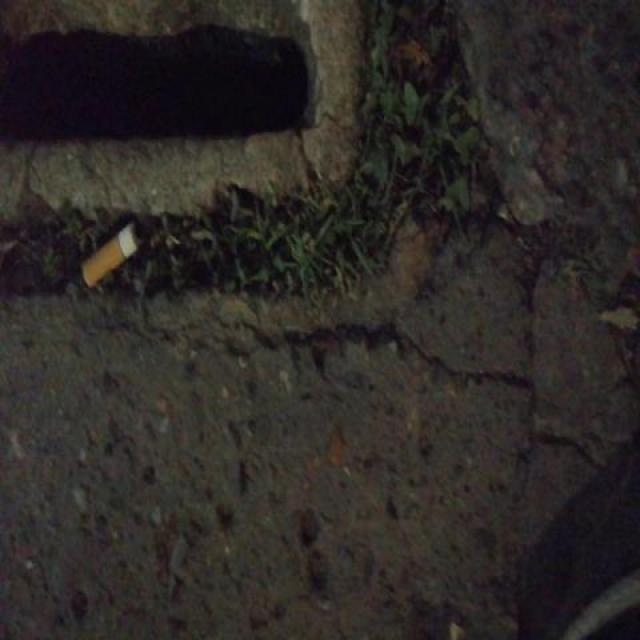non-organic waste: (76, 218, 148, 294)
